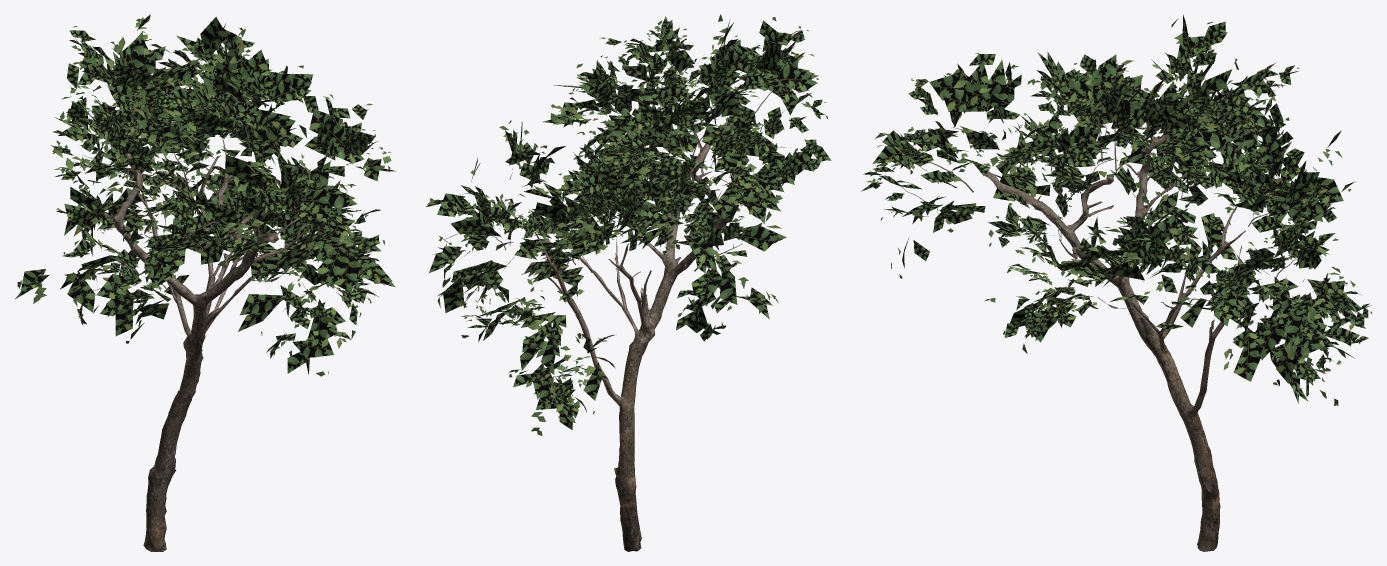
The model's file is tree_small_02.gltf.
3 renders of one model, left to right at view 1: azimuth 30°, elevation 25°; view 2: azimuth 150°, elevation 25°; view 3: azimuth 270°, elevation 25°, orthographic. The views are drawn at different scales.
Parts seen in each view (by area): view 1: tree_small_02; view 2: tree_small_02; view 3: tree_small_02.
Part boxes in pixels (left/top/right/bottom): tree_small_02: left=15, top=14, right=396, bottom=551; tree_small_02: left=426, top=14, right=831, bottom=551; tree_small_02: left=861, top=14, right=1371, bottom=551.
Size of the model in its own units: 3 by 4.63 by 4.31.
1 material, 1 textured.
